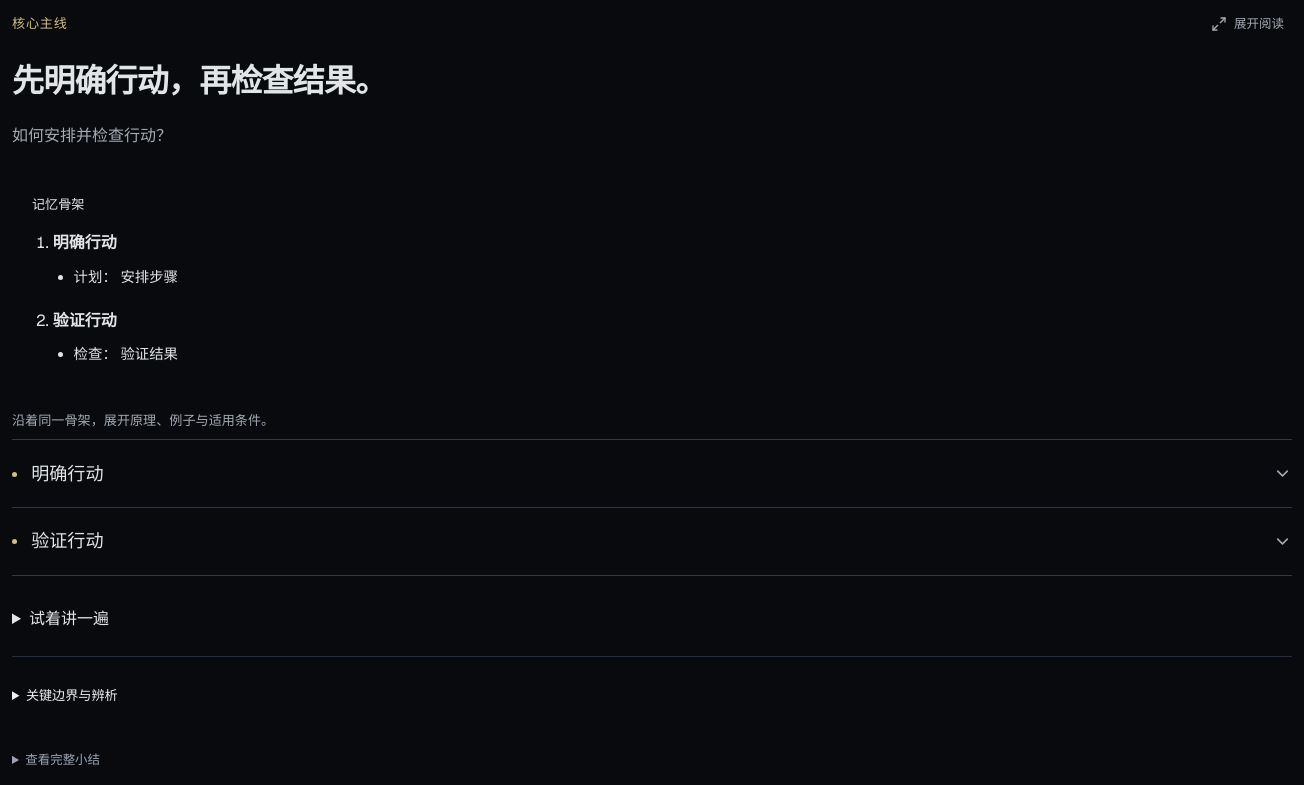
Test case: question reader › switches questions and opens a shared concept in place without repeated relationship panels
This screenshot has width=1304, height=785.
Click the button with aria-label "展开核心部分：验证行动". click: (67, 541)
box: [12,508,1292,574]
(page scrolled)
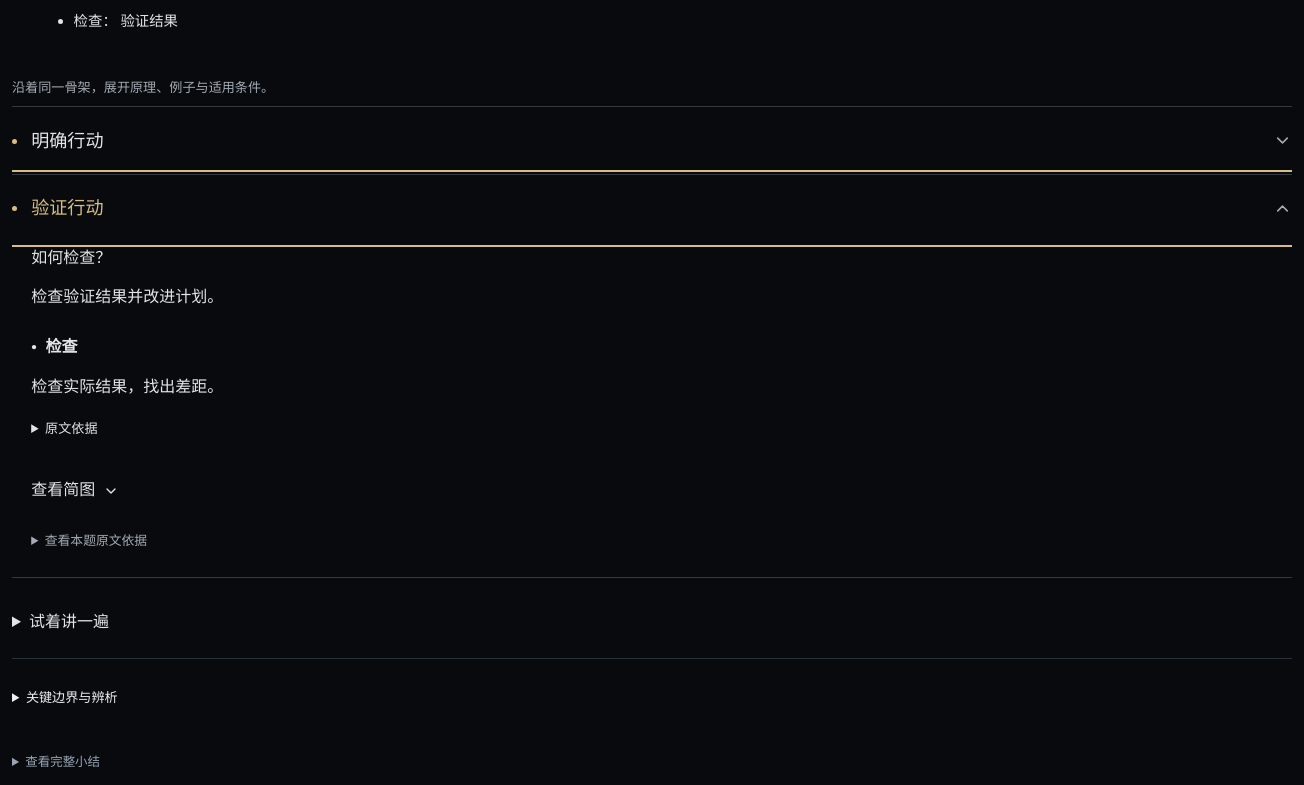
expect the text "检查验证结果并改进计划。" is shown once: met, box [31,286,223,306]
Click the button "查看简图". click: (75, 491)
box: [31,469,119,513]
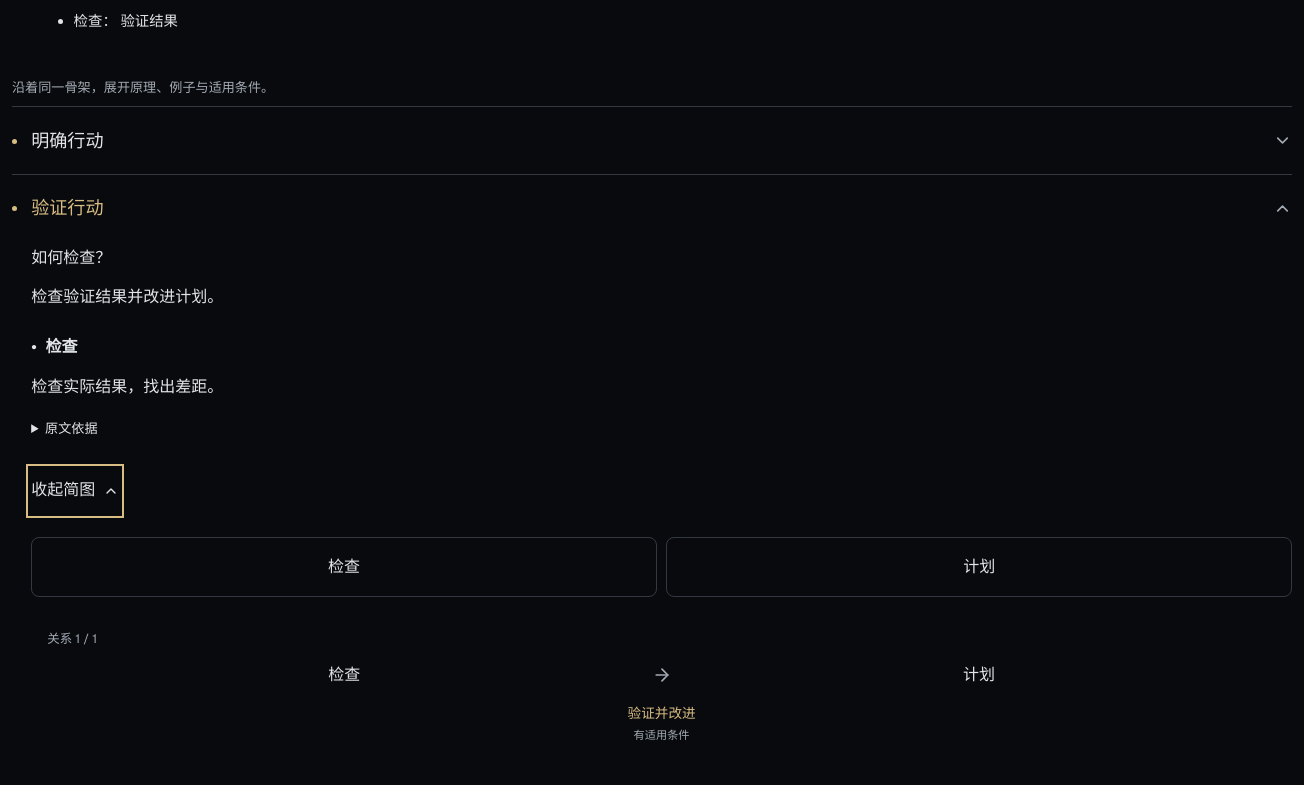
Click the button "计划". click: (979, 567)
box: [666,537,1292,597]
(page scrolled)
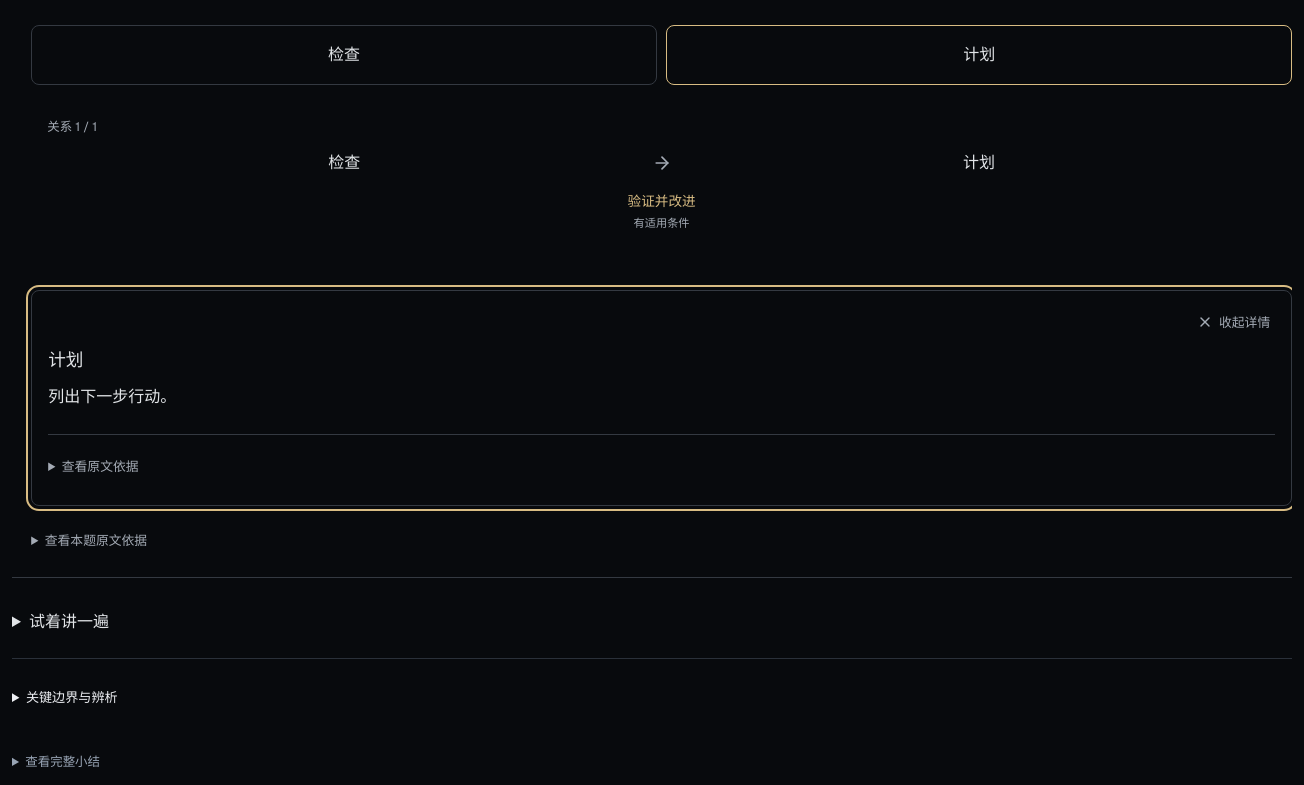
expect the element named "节点解释" shows "列出下一步行动。": met, box [48,386,176,407]
Click the button "收起详情". click: (1234, 322)
box: [1193,307,1275,338]
(page scrolled)
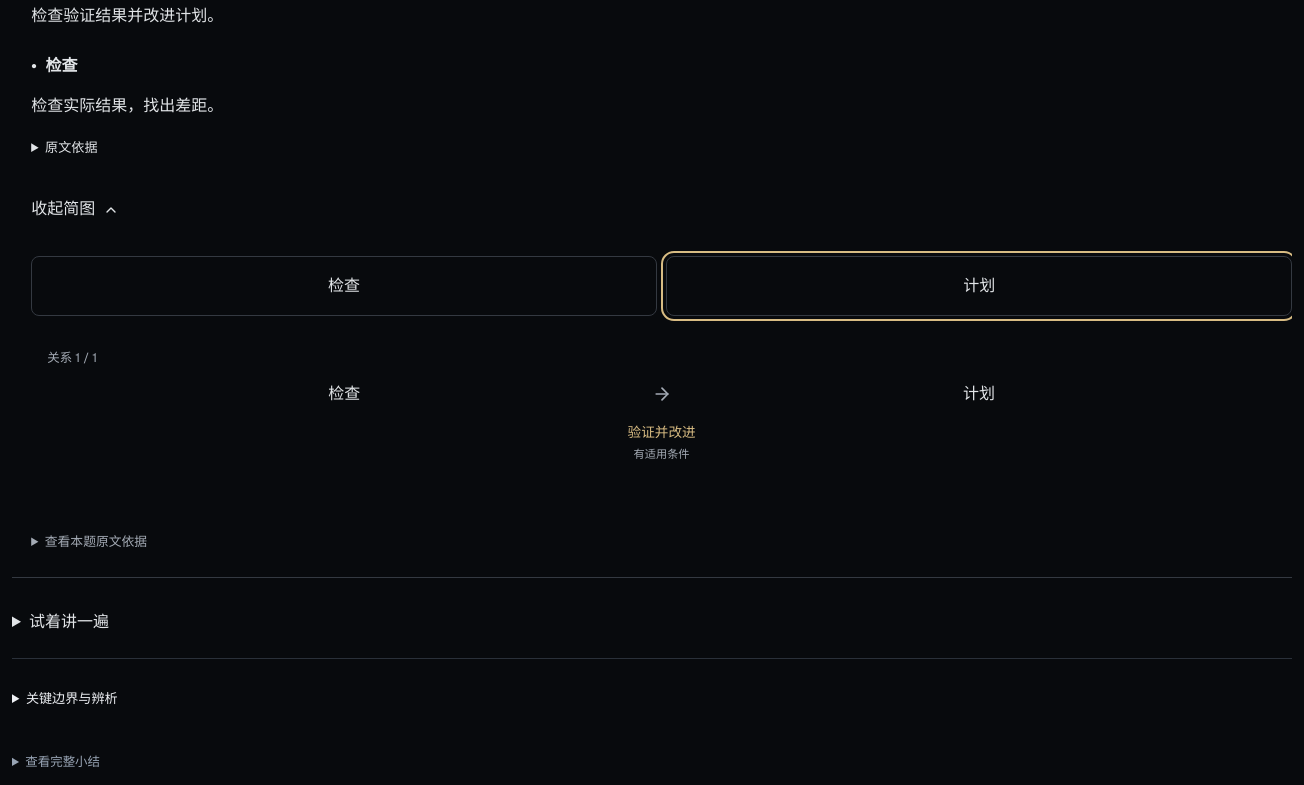
expect the element "节点解释" is gone: met
Click the button "验证并改进 有适用条件". click: (662, 443)
box: [614,413,709,473]
(page scrolled)
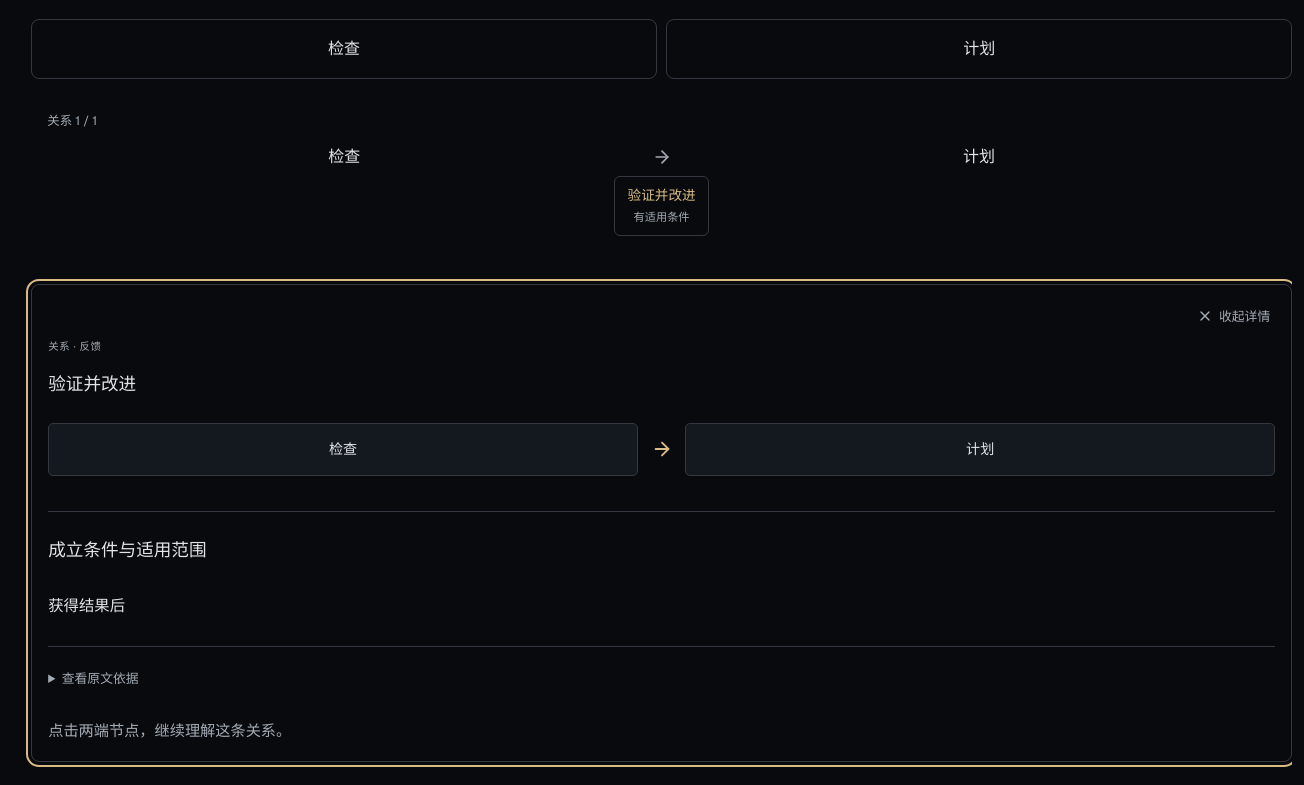
expect the element named "关系解释" shows "获得结果后": met, box [48,596,125,616]
